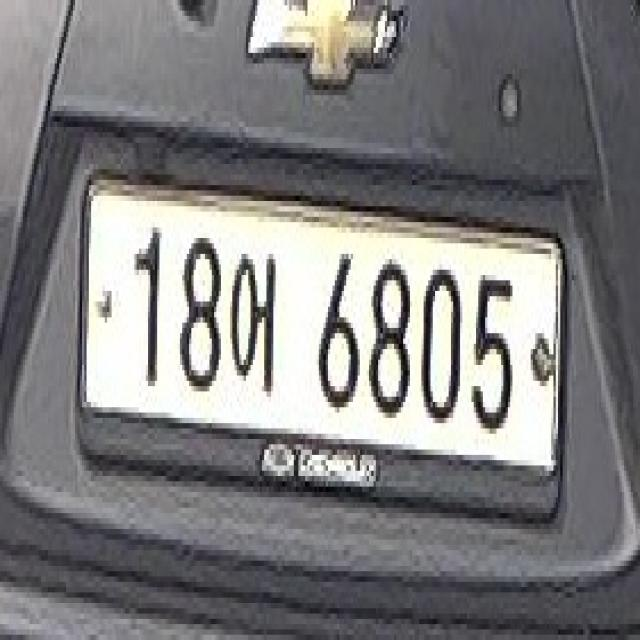0: (419, 264, 462, 439)
1: (128, 217, 166, 402)
5: (471, 264, 515, 439)
6: (316, 243, 360, 423)
8: (176, 228, 223, 408), (367, 248, 412, 428)
eo: (228, 243, 280, 408)
license_plate: (70, 164, 570, 545)
